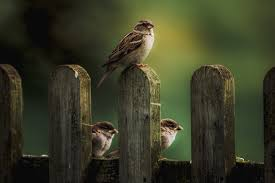home_sparrow: (92, 15, 159, 87), (84, 114, 118, 168), (159, 111, 186, 155)
